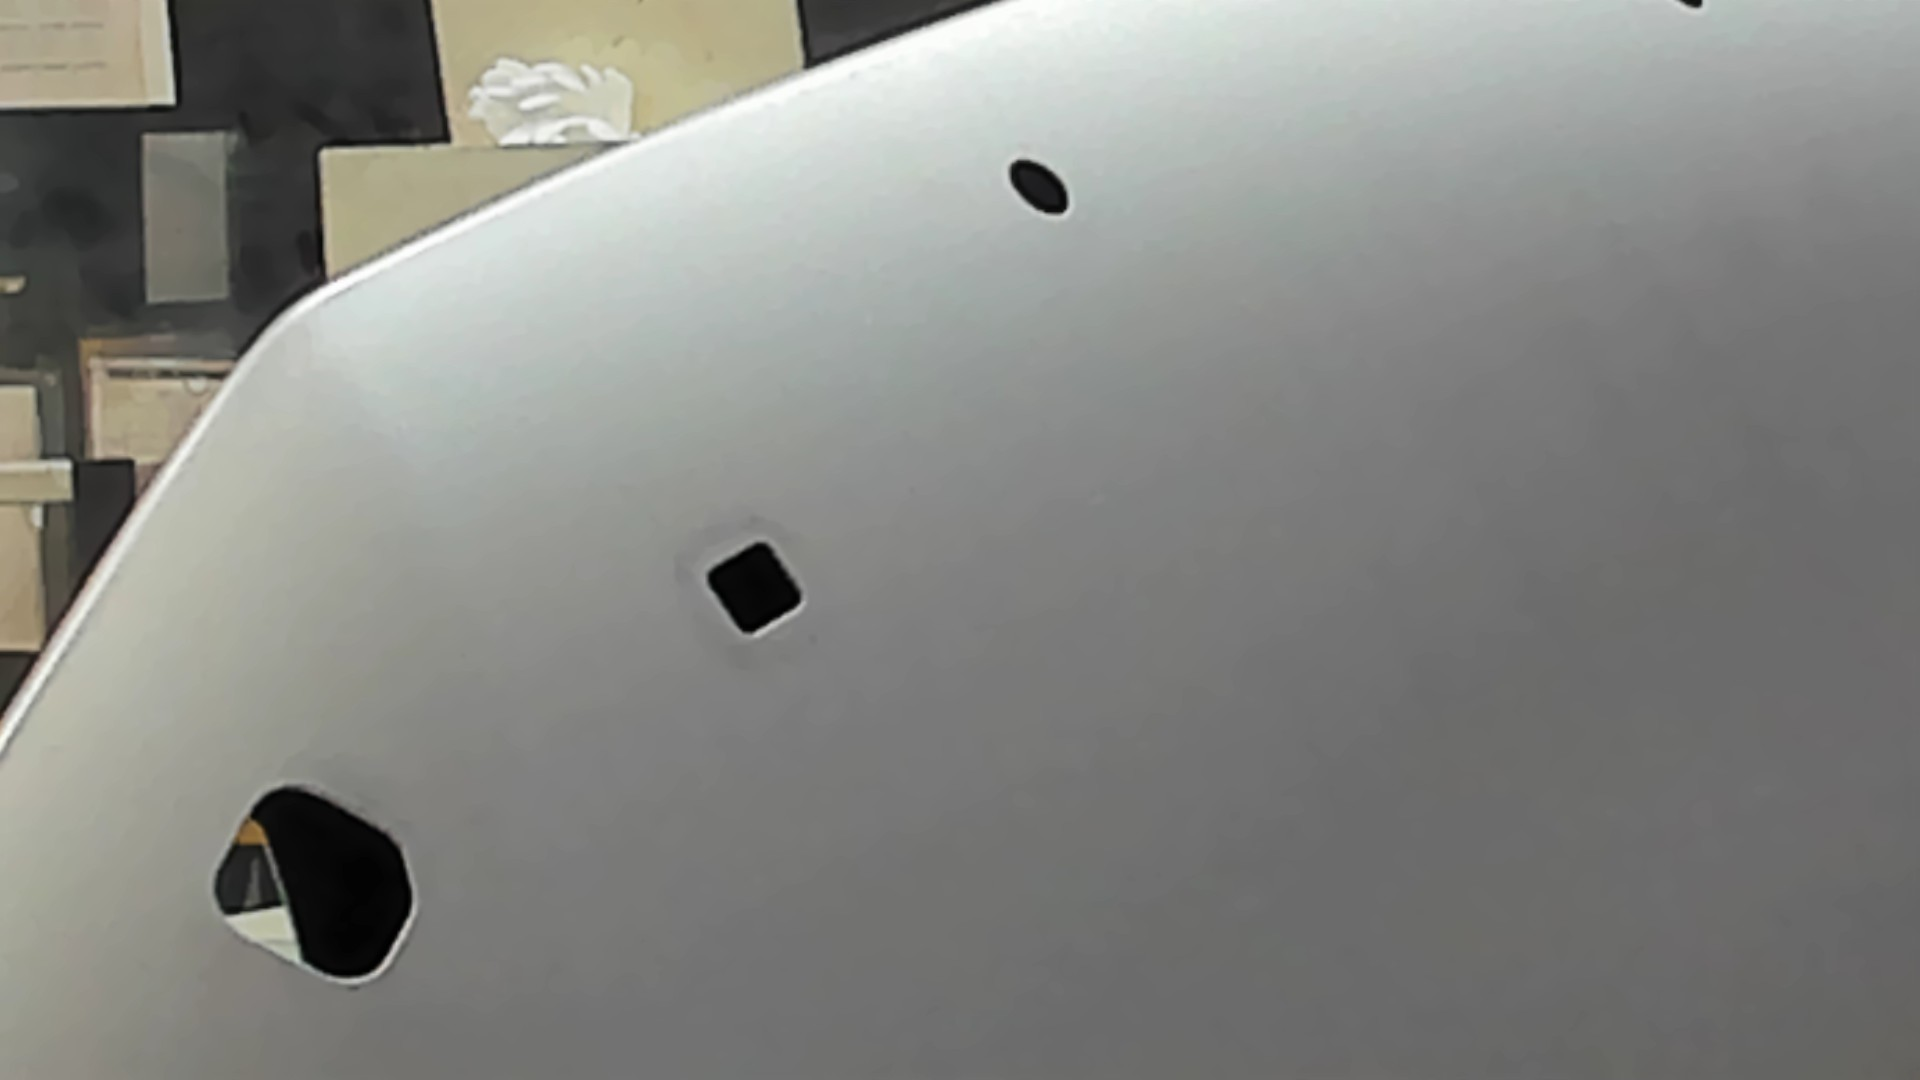Agujero: (703, 539, 807, 637), (1006, 157, 1071, 216)
Agujerote: (212, 785, 421, 989)
